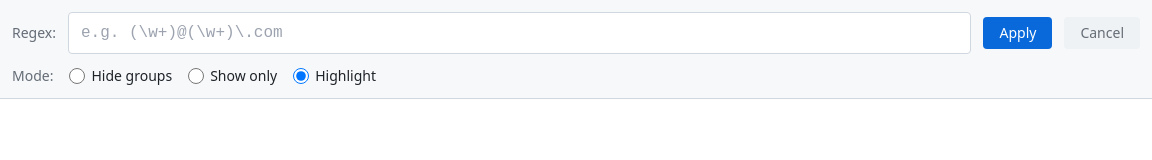
Test: RegexFilterPanel pattern box › shows markup in the pattern &lt; as text and builds no element from it
Type "&lt;" into the field with id "regex-filter-input" at (520, 33), box [69, 13, 970, 53]
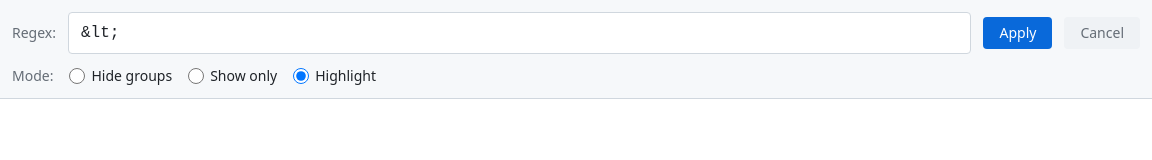
Expected: the element showing "&lt;" is shown, [81, 24, 119, 42]
